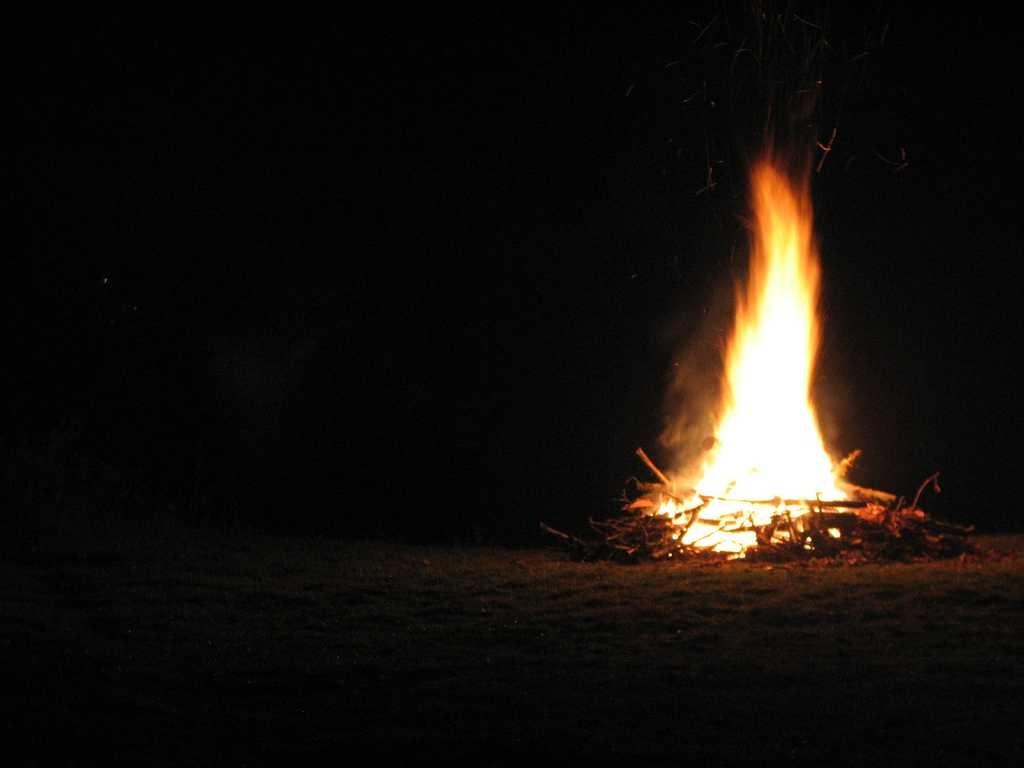fire: (689, 163, 859, 558)
